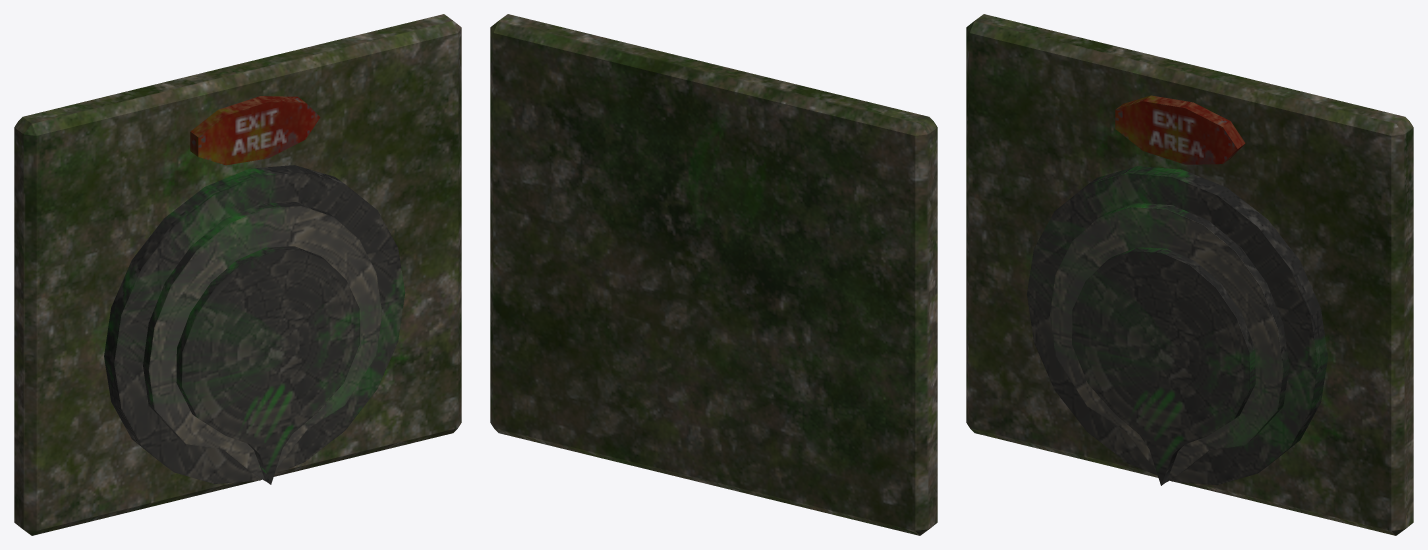
File: MK_CampWall_Door.fbx
3 renders of one model, left to right at view 1: azimuth 30°, elevation 25°; view 2: azimuth 150°, elevation 25°; view 3: azimuth 330°, elevation 25°, orthographic.
Visible parts, largest first — view 1: MK_CampWall_Door; view 2: MK_CampWall_Door; view 3: MK_CampWall_Door.
Part boxes in pixels (left/top/right/bottom): MK_CampWall_Door: left=14, top=14, right=461, bottom=535; MK_CampWall_Door: left=490, top=14, right=937, bottom=535; MK_CampWall_Door: left=966, top=14, right=1413, bottom=535.
Size of the model in its own units: 133 by 120 by 21.36.
1 material, 1 textured.
